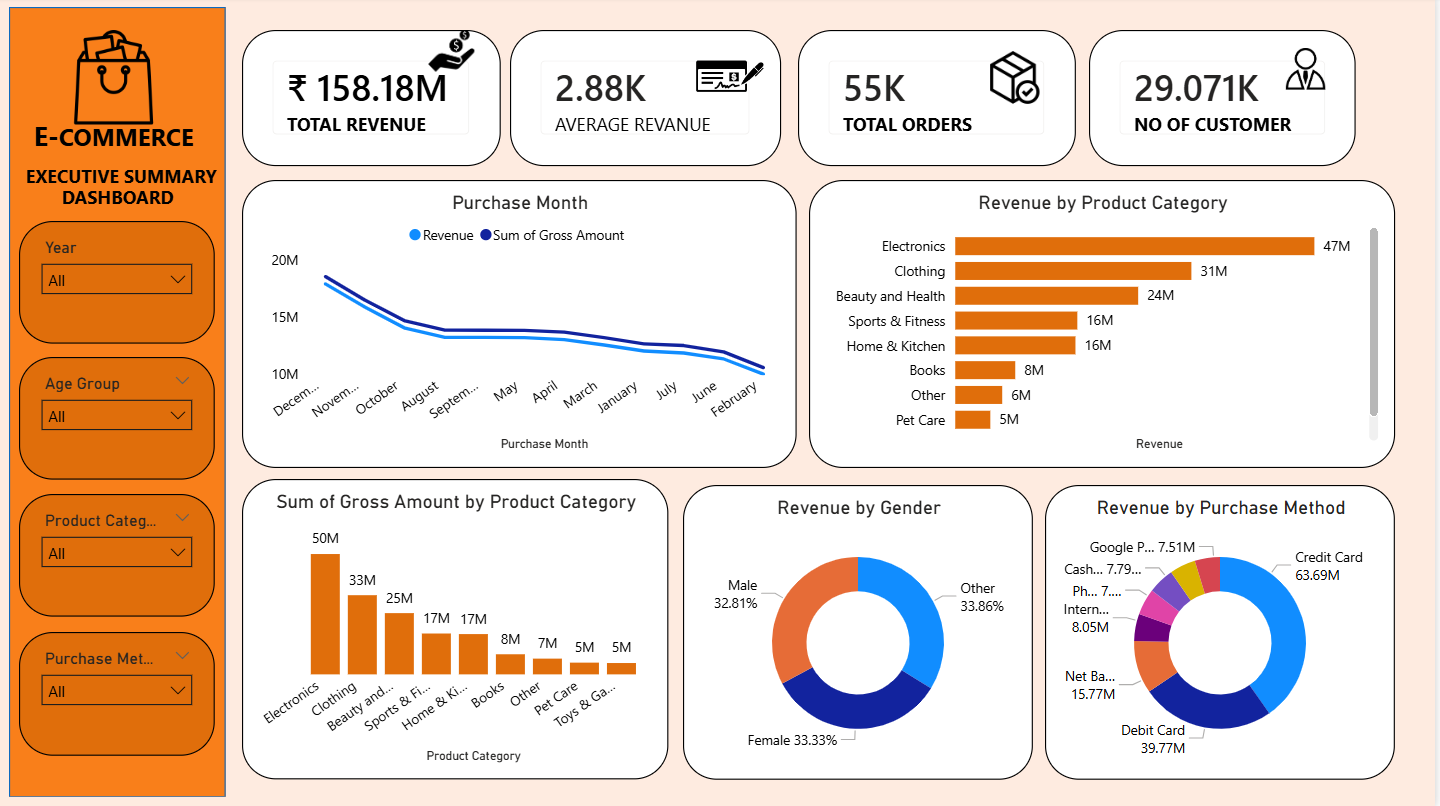

Layout of this report page (visuals, bound fields, positions):
{"tool":"powerbi","page":{"name":"EXECUTIVE SUMMARY DASHBOARD","canvas":[1280,720],"ordinal":0},"visuals":[{"type":"shape","box":[12.3,8.6,192.6,702.5],"z":0},{"type":"cardVisual","fields":{"Data":["Sum(Clean data.Net Amount)"]},"box":[219.8,29.6,229.6,121],"z":1000},{"type":"cardVisual","fields":{"Data":["CountNonNull(Clean data.TID)"]},"box":[713.6,29.6,246.9,121],"z":2000},{"type":"cardVisual","fields":{"Data":["Count(Clean data.CID)"]},"box":[972.8,29.6,237,121],"z":3000},{"type":"slicer","fields":{"Values":["Clean data.Year"]},"box":[21,198.8,174.1,108.6],"z":4000},{"type":"slicer","fields":{"Values":["Clean data.Age Group"]},"box":[21,319.8,174.1,108.6],"z":5000},{"type":"slicer","fields":{"Values":["Clean data.Product Category"]},"box":[21,442,174.1,108.6],"z":6000},{"type":"slicer","fields":{"Values":["Clean data.Purchase Method"]},"box":[21,564.2,174.1,109.9],"z":7000},{"type":"lineChart","title":"Purchase Month","fields":{"Y":["Clean data.Revenue","Sum(Clean data.Gross Amount)"],"Category":["Clean data.Purchase Month"]},"box":[219.8,163,492.6,255.6],"z":8000},{"type":"clusteredBarChart","fields":{"Category":["Clean data.Product Category"],"Y":["Clean data.Revenue"]},"box":[723.5,163,521,255.6],"z":9000},{"type":"columnChart","fields":{"Y":["Sum(Clean data.Gross Amount)"],"Category":["Clean data.Product Category"]},"box":[219.4,428.6,378.9,266.7],"z":10000},{"type":"donutChart","fields":{"Category":["Clean data.Purchase Method"],"Y":["Clean data.Revenue"]},"box":[933.3,433.3,311.1,261.7],"z":11000},{"type":"donutChart","fields":{"Y":["Clean data.Revenue"],"Category":["Clean data.Gender"]},"box":[611.1,433.3,311.1,261.7],"z":12000},{"type":"cardVisual","fields":{"Data":["Clean data.Average Order Value"]},"box":[458,29.6,240.7,121],"z":13000},{"type":"image","box":[382.8,29.8,45.6,36.7],"z":14000},{"type":"image","box":[623.5,45.7,60.5,49.4],"z":15000},{"type":"image","box":[880.2,48.1,53.1,46.9],"z":16000},{"type":"image","box":[1140.7,45.7,49.4,37],"z":17000},{"type":"textbox","box":[29.6,101.2,165.4,49.4],"z":18000},{"type":"image","box":[16,29.6,179,84],"z":19000},{"type":"textbox","box":[22.2,143.2,188.9,37],"z":20000},{"type":"textbox","box":[54.3,161.7,125.9,37],"z":21000}]}

Visuals, with their boxes in screenshot pixels (x1, y1, x2, y2), scaled from the page's 1280x720 canvas onto the 1440x806 screenshot:
shape: detection(14, 10, 231, 796)
cardVisual - Sum(Clean data.Net Amount): detection(247, 33, 506, 169)
cardVisual - CountNonNull(Clean data.TID): detection(803, 33, 1081, 169)
cardVisual - Count(Clean data.CID): detection(1094, 33, 1361, 169)
slicer - Clean data.Year: detection(24, 223, 219, 344)
slicer - Clean data.Age Group: detection(24, 358, 219, 480)
slicer - Clean data.Product Category: detection(24, 495, 219, 616)
slicer - Clean data.Purchase Method: detection(24, 632, 219, 755)
"Purchase Month" lineChart: detection(247, 182, 801, 469)
clusteredBarChart - Clean data.Product Category x Clean data.Revenue: detection(814, 182, 1400, 469)
columnChart - Sum(Clean data.Gross Amount) x Clean data.Product Category: detection(247, 480, 673, 778)
donutChart - Clean data.Purchase Method x Clean data.Revenue: detection(1050, 485, 1400, 778)
donutChart - Clean data.Revenue x Clean data.Gender: detection(687, 485, 1037, 778)
cardVisual - Clean data.Average Order Value: detection(515, 33, 786, 169)
image: detection(431, 33, 482, 74)
image: detection(701, 51, 770, 106)
image: detection(990, 54, 1050, 106)
image: detection(1283, 51, 1339, 93)
textbox: detection(33, 113, 219, 169)
image: detection(18, 33, 219, 127)
textbox: detection(25, 160, 237, 202)
textbox: detection(61, 181, 203, 222)
